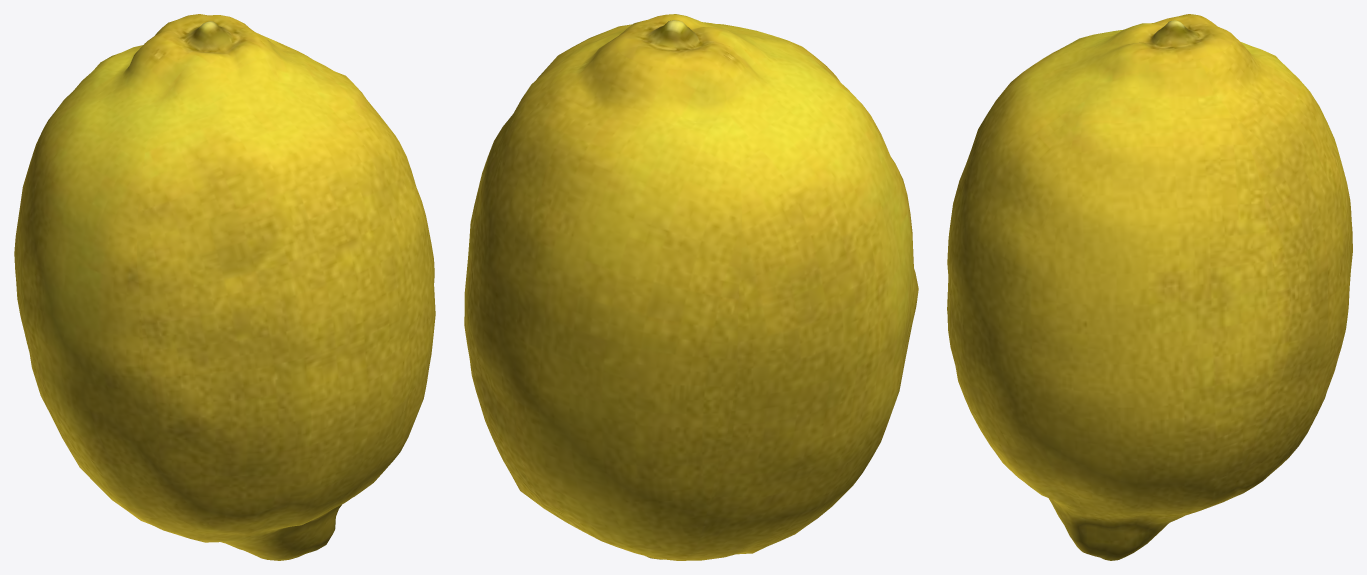
Rendered from lemon.glb.
3 views of the same model, side by side, from view 1: azimuth 30°, elevation 25°; view 2: azimuth 150°, elevation 25°; view 3: azimuth 270°, elevation 25° (orthographic). The views are drawn at different scales.
Parts seen in each view (by area): view 1: lemon_body; view 2: lemon_body; view 3: lemon_body.
Part boxes in pixels (bbox=[...]): lemon_body: bbox=[14, 14, 435, 560]; lemon_body: bbox=[464, 14, 918, 560]; lemon_body: bbox=[947, 14, 1352, 560].
Size of the model in its own units: 0.144 by 0.2 by 0.1431.
Materials: 1 (1 with a texture image).
